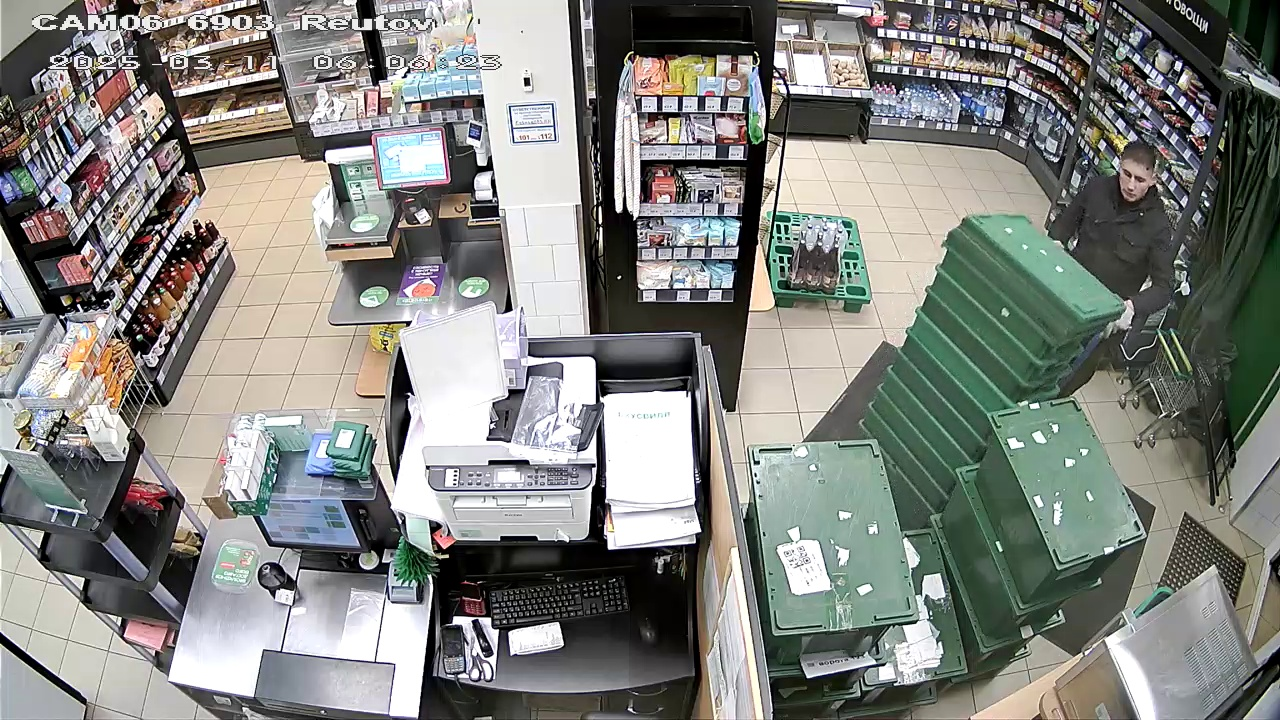Human: (1046, 134, 1180, 330)
